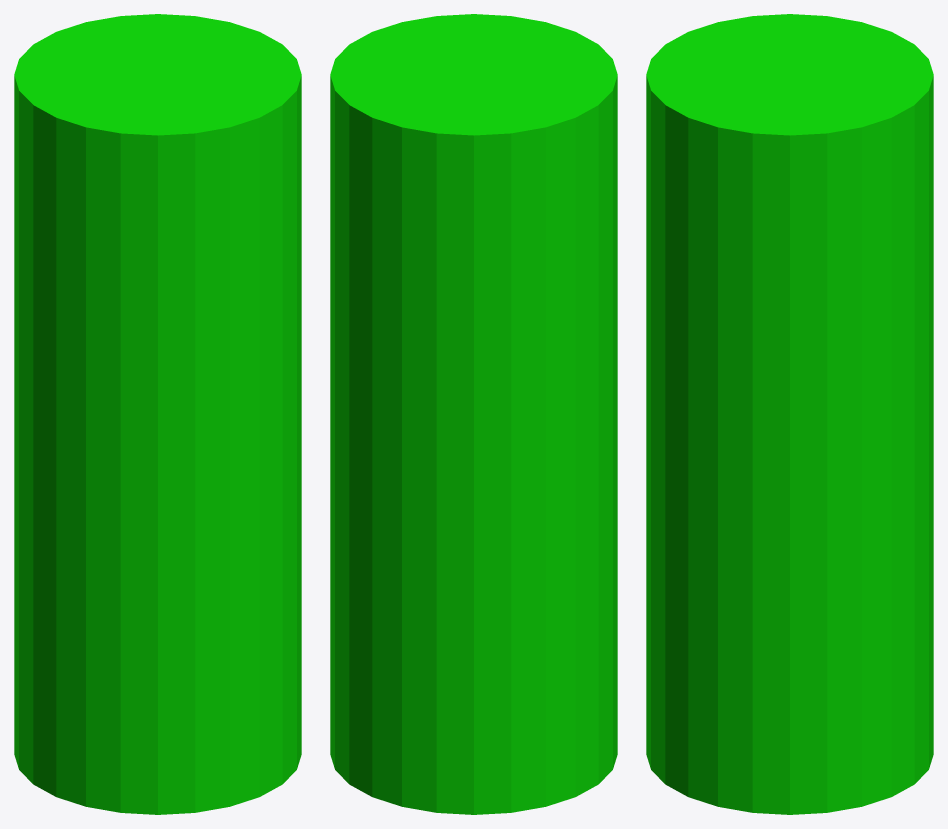
3 views of the same model, side by side, from view 1: azimuth 30°, elevation 25°; view 2: azimuth 150°, elevation 25°; view 3: azimuth 270°, elevation 25° (orthographic).
Parts seen in each view (by area): view 1: Cylinder; view 2: Cylinder; view 3: Cylinder.
Part boxes in pixels (x1=…): Cylinder: x1=14, y1=14, x2=301, y2=814; Cylinder: x1=330, y1=14, x2=617, y2=814; Cylinder: x1=646, y1=14, x2=933, y2=814.
Bounding box in the file's own units: 1030 × 2686 × 1030.
